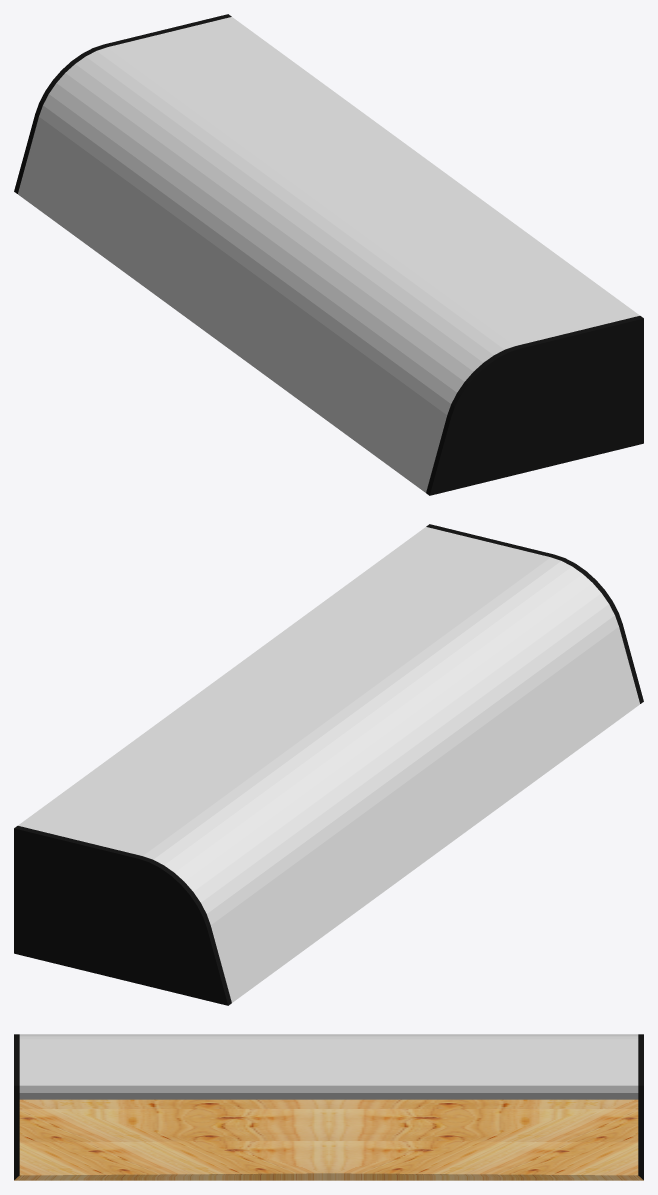
Rendered from sushicase 1.fbx.
3 views of the same model, one above another, from view 1: azimuth 30°, elevation 25°; view 2: azimuth 150°, elevation 25°; view 3: azimuth 270°, elevation 25° (orthographic). The views are drawn at different scales.
Visible parts, largest first — view 1: Cube; view 2: Cube; view 3: Cube.
Part boxes in pixels (box(x1,y1,x2,y2)): Cube: box(14, 14, 643, 495); Cube: box(14, 524, 643, 1005); Cube: box(14, 1034, 643, 1180).
Bounding box in the file's own units: 89.77 × 50.13 × 302.
